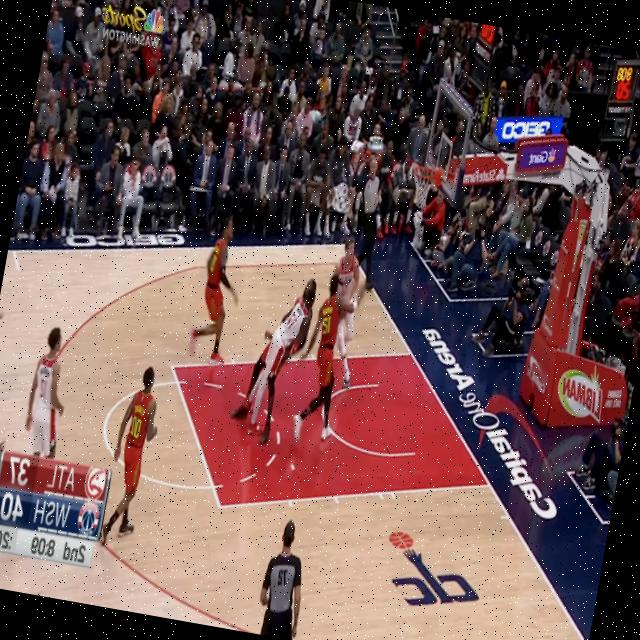Foul: (226, 256, 325, 449)
